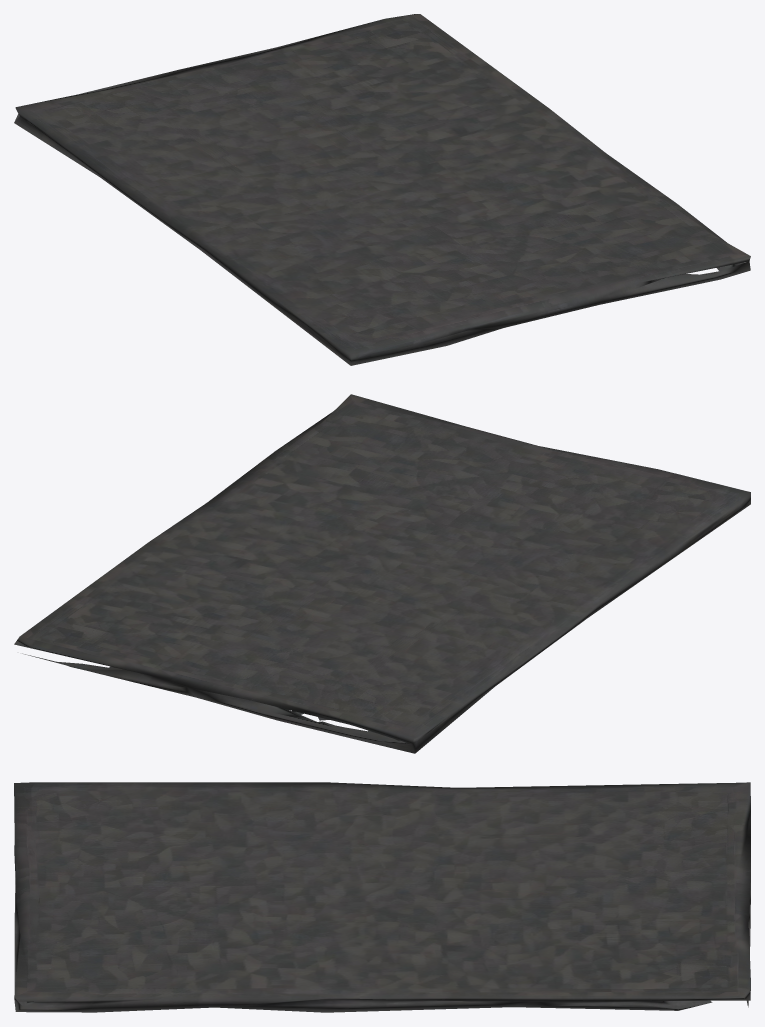
File: rug+3d+model.glb
3 renders of one model, top to bottom at view 1: azimuth 30°, elevation 25°; view 2: azimuth 150°, elevation 25°; view 3: azimuth 270°, elevation 25°, orthographic. The views are drawn at different scales.
Visible parts, largest first — view 1: tripo_node_9fb272a6-49ab-4959-b439-3f14bd73351e; view 2: tripo_node_9fb272a6-49ab-4959-b439-3f14bd73351e; view 3: tripo_node_9fb272a6-49ab-4959-b439-3f14bd73351e.
Part boxes in pixels (<box>): tripo_node_9fb272a6-49ab-4959-b439-3f14bd73351e: <box>14,14,750,365</box>; tripo_node_9fb272a6-49ab-4959-b439-3f14bd73351e: <box>14,394,750,753</box>; tripo_node_9fb272a6-49ab-4959-b439-3f14bd73351e: <box>14,782,750,1012</box>.
Size of the model in its own units: 0.6892 by 0.0267 by 1.
Materials: 1 (1 with a texture image).
